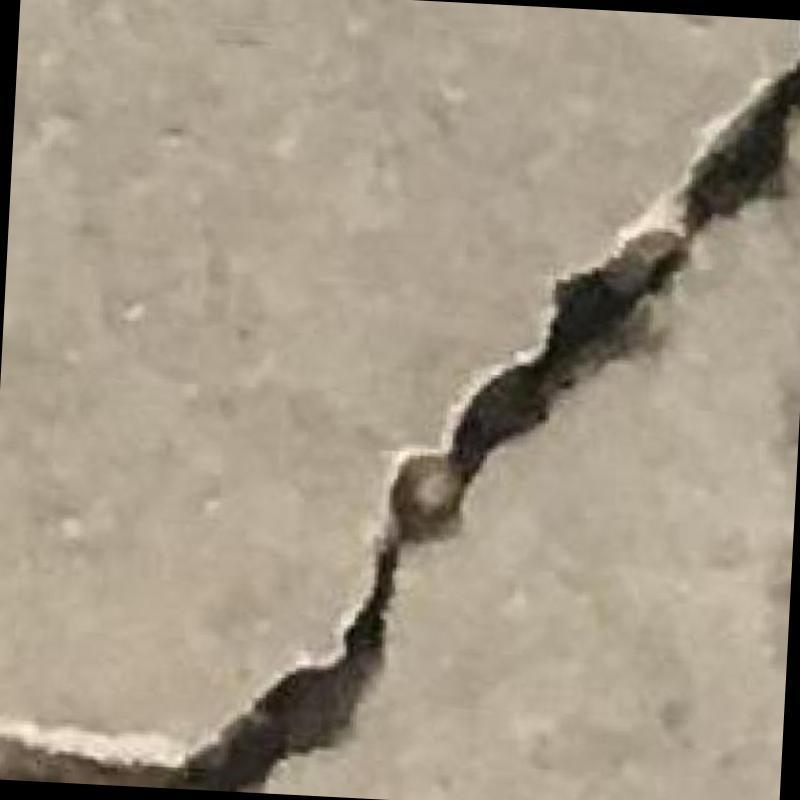pothole: (0, 50, 800, 791)
